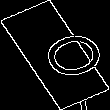O_SW: (14, 24, 96, 86)
